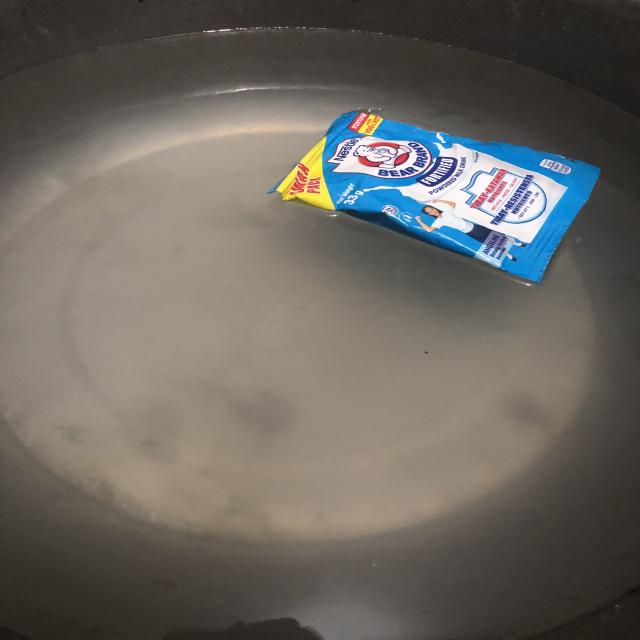Plastic Wrapper: (247, 93, 640, 296)
